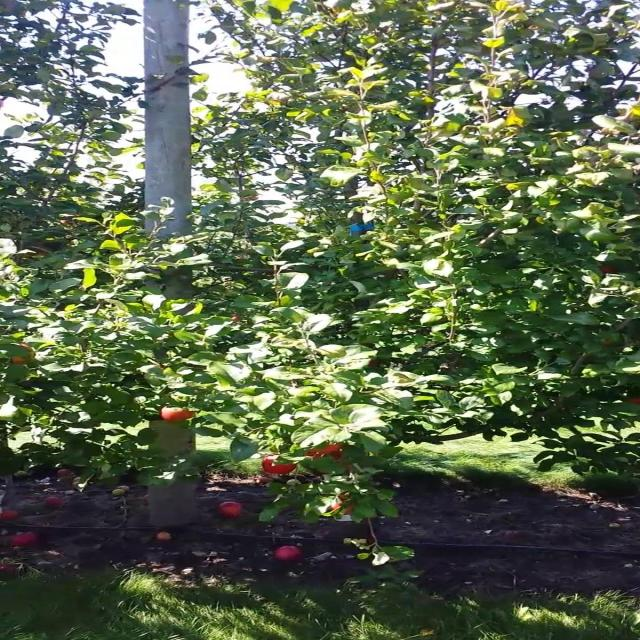apple: (262, 456, 299, 476), (312, 452, 354, 469), (163, 408, 199, 424), (13, 344, 36, 365), (333, 496, 356, 516), (314, 440, 345, 452), (319, 444, 345, 453), (604, 268, 619, 275), (625, 396, 638, 404), (369, 360, 377, 368)
